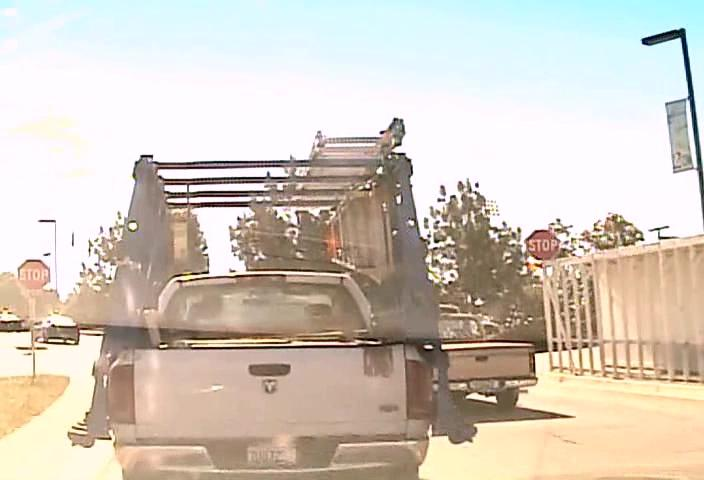stop: (525, 229, 560, 261)
